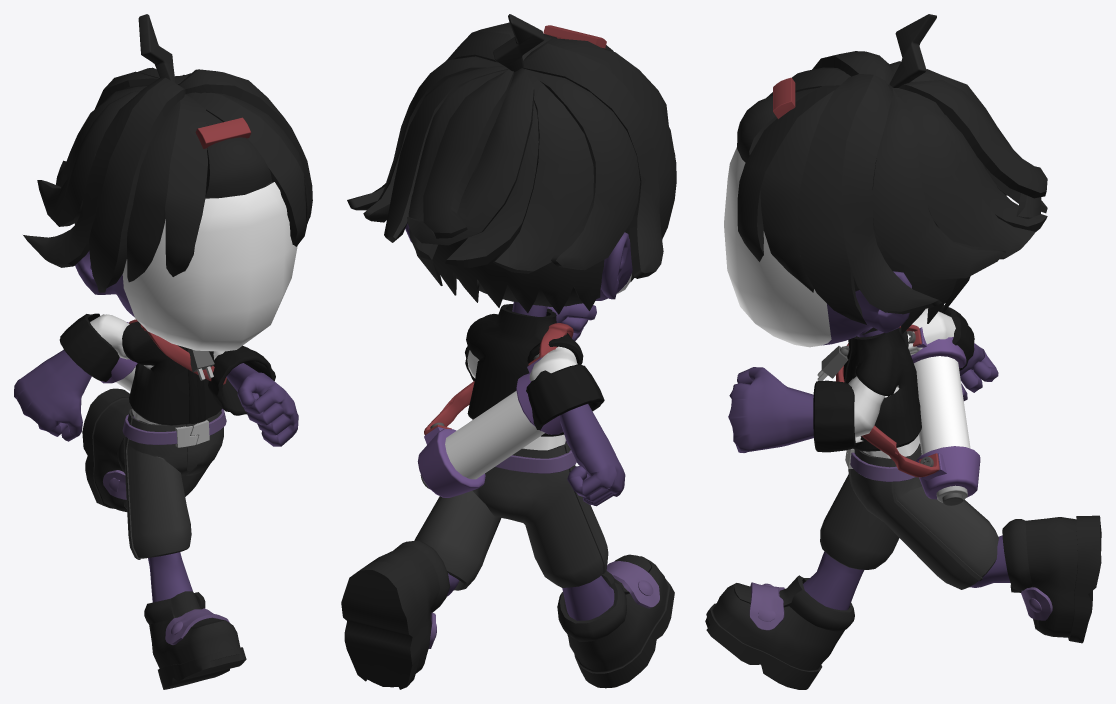
Rendered from E_run_03.fbx.
The picture shows the model from 3 angles, left to right: view 1: azimuth 30°, elevation 25°; view 2: azimuth 150°, elevation 25°; view 3: azimuth 270°, elevation 25°; orthographic projection. The views are drawn at different scales.
Parts seen in each view (by area): view 1: pPlane3, hair_mae, hair_yoko, body4, zubonn, uwagi1, uwagi2, kutu_main_migi, kutu_main_hidari, hair_usiro1, hair_age, hair_tuno (+11 smaller); view 2: zubonn, hair_yoko, hair_usiro2, kutu_main_hidari, hair_usiro1, body4, polySurface1, kutu_main_migi, hair_usiro5, hair_usiro4, hair_usiro3, uwagi1 (+9 smaller); view 3: hair_yoko, zubonn, body4, hair_mae, hair_usiro1, kutu_main_hidari, kutu_main_migi, polySurface1, pPlane3, hair_usiro2, uwagi2, uwagi1 (+12 smaller).
Part boxes in pixels (box(x1,y1,x2,y2)): pPlane3: box(122, 182, 297, 351); hair_mae: box(127, 92, 311, 282); hair_yoko: box(23, 69, 312, 292); body4: box(14, 250, 298, 602); zubonn: box(123, 408, 223, 559); uwagi1: box(122, 321, 222, 425); uwagi2: box(59, 313, 275, 424); kutu_main_migi: box(144, 592, 246, 689); kutu_main_hidari: box(82, 388, 131, 511); hair_usiro1: box(37, 91, 140, 226); hair_age: box(205, 137, 271, 198); hair_tuno: box(138, 14, 175, 82); zubonn: box(414, 442, 608, 590); hair_yoko: box(347, 22, 676, 282); hair_usiro2: box(384, 66, 593, 273); kutu_main_hidari: box(341, 540, 450, 689); hair_usiro1: box(363, 56, 640, 270); body4: box(405, 223, 632, 620); polySurface1: box(417, 354, 563, 497); kutu_main_migi: box(557, 556, 674, 688); hair_usiro5: box(407, 68, 534, 245); hair_usiro4: box(423, 69, 514, 238); hair_usiro3: box(408, 69, 538, 267); uwagi1: box(466, 304, 583, 436); hair_yoko: box(797, 51, 941, 324); zubonn: box(820, 443, 998, 589); body4: box(728, 271, 1010, 610); hair_mae: box(737, 67, 850, 292); hair_usiro1: box(872, 61, 1005, 279); kutu_main_hidari: box(1002, 515, 1101, 643); kutu_main_migi: box(705, 578, 854, 689); polySurface1: box(906, 327, 980, 505); pPlane3: box(724, 147, 831, 347); hair_usiro2: box(892, 87, 1035, 259); uwagi2: box(813, 305, 974, 458); uwagi1: box(843, 328, 921, 451).
Bounding box in the file's own units: 45.38 × 105 × 55.09.
